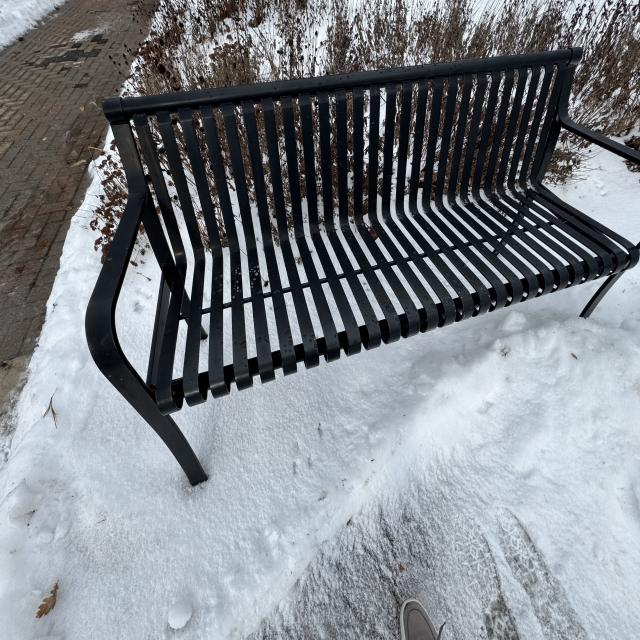Bench: (80, 40, 628, 432)
